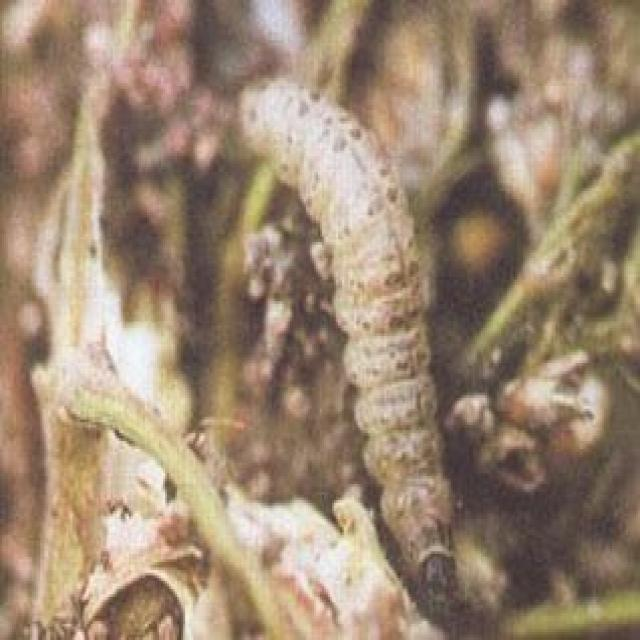peach borer: (229, 75, 469, 599)
